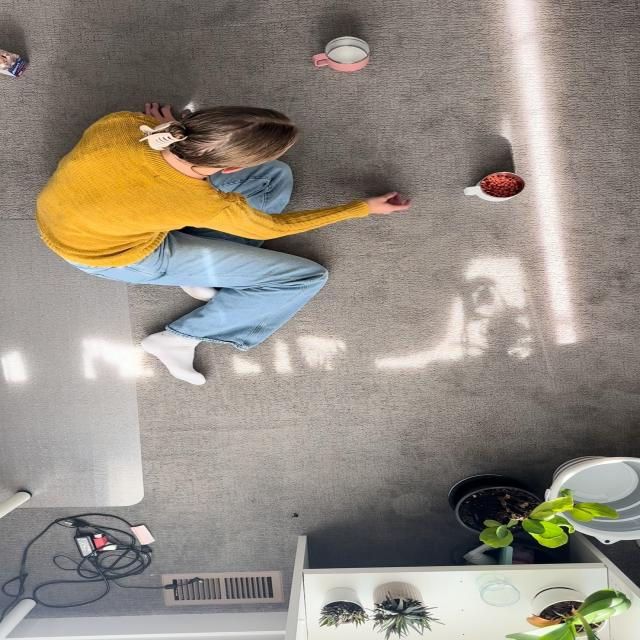IBC: (312, 36, 370, 72), (463, 172, 524, 202)
